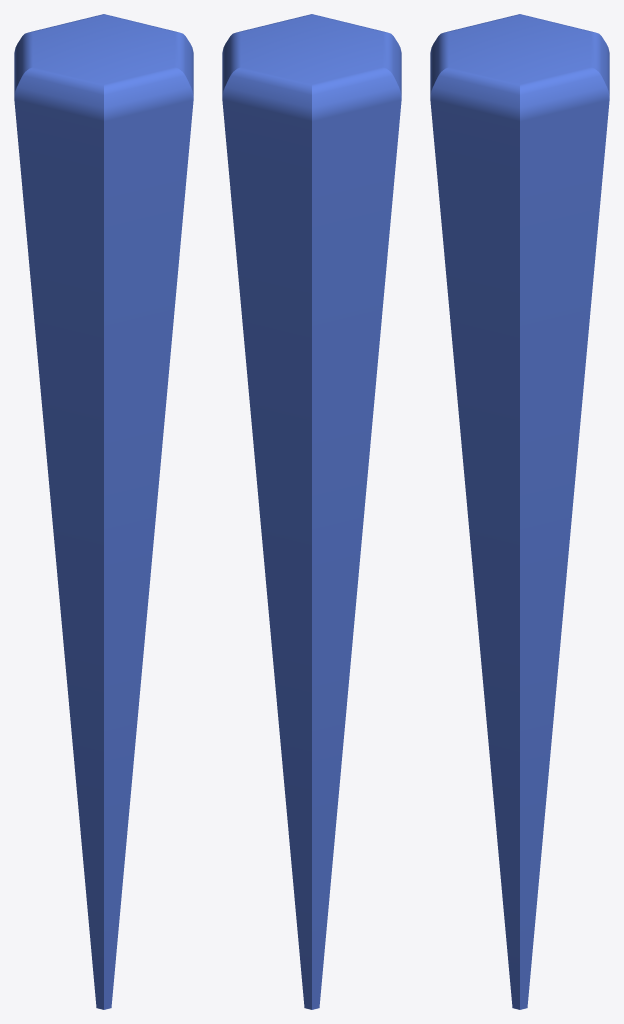
Rendered from ActiveTile.glb.
3 views of the same model, side by side, from view 1: azimuth 30°, elevation 25°; view 2: azimuth 150°, elevation 25°; view 3: azimuth 270°, elevation 25° (orthographic).
Visible parts, largest first — view 1: Active; view 2: Active; view 3: Active.
Boxes of the visible parts, bbox=[...] form: Active: bbox=[14, 14, 193, 1009]; Active: bbox=[222, 14, 401, 1009]; Active: bbox=[430, 14, 609, 1009].
Size of the model in its own units: 1.96 by 10 by 1.7.
